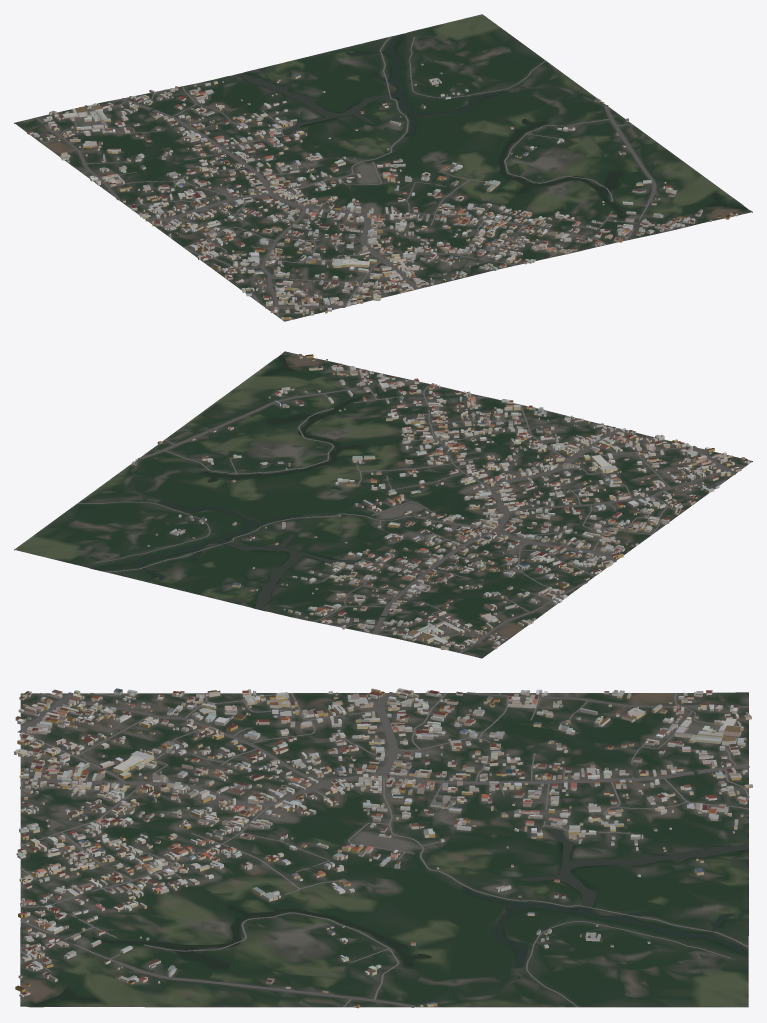
3 renders of one model, top to bottom at view 1: azimuth 30°, elevation 25°; view 2: azimuth 150°, elevation 25°; view 3: azimuth 270°, elevation 25°, orthographic. The views are drawn at different scales.
Parts seen in each view (by area): view 1: ground, buildings, roads, water; view 2: ground, buildings, roads, water; view 3: ground, buildings, roads, water.
Part boxes in pixels (x1,y1,x2,y2): ground: (14,14,752,321); buildings: (27,63,737,319); roads: (35,36,689,316); water: (234,33,748,218); ground: (14,351,752,658); buildings: (131,354,750,649); roads: (77,370,745,653); water: (93,354,363,610); ground: (20,692,748,1007); buildings: (14,688,752,1008); roads: (17,692,749,1007); water: (31,829,748,1006).
Bounding box in the file's own units: 1410 × 28.56 × 1421.
